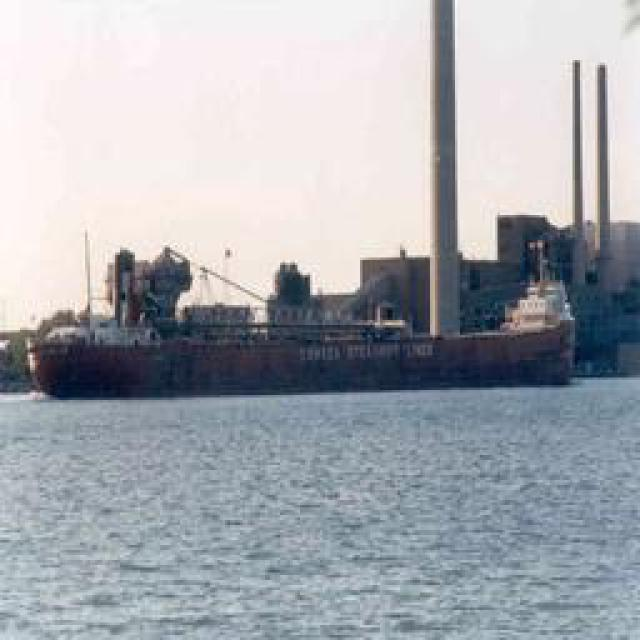Ship: (37, 302, 567, 400)
